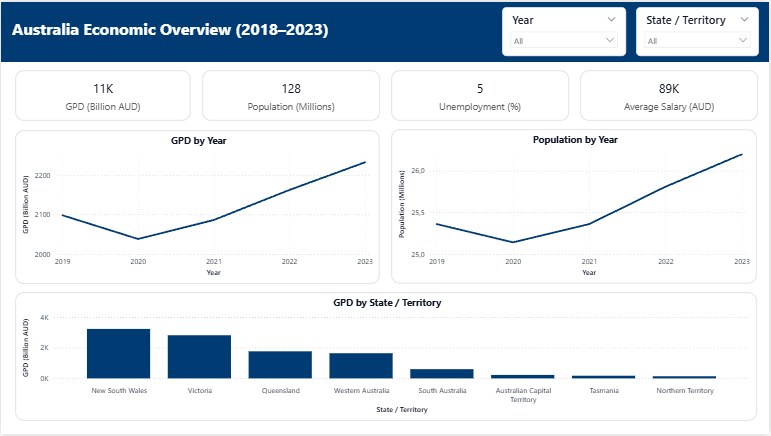

The page's visual inventory and layout, read from the dashboard file:
{"tool":"powerbi","page":{"name":"Overview","canvas":[1280,720],"ordinal":0},"visuals":[{"type":"card","fields":{"Values":["Main Sheet.Population (Millions)"]},"box":[335,113.3,296.7,85],"z":0},{"type":"card","fields":{"Values":["Main Sheet.GPD (Billion AUD)"]},"box":[23.3,113.3,293.3,85],"z":1000},{"type":"card","fields":{"Values":["Main Sheet.Unemployment (%)"]},"box":[650,113.3,296.7,85],"z":2000},{"type":"card","fields":{"Values":["Main Sheet.Average Salary (AUD)"]},"box":[965,113.3,296.7,85],"z":3000},{"type":"lineChart","title":"GPD by Year","fields":{"Y":["Main Sheet.GPD (Billion AUD)"],"Category":["Aux Year.Year"]},"box":[23.3,213.3,608.3,256.7],"z":4000},{"type":"lineChart","title":"Population by Year","fields":{"Y":["Main Sheet.Population (Millions)"],"Category":["Aux Year.Year"]},"box":[650,211.7,610,258.3],"z":5000},{"type":"clusteredColumnChart","title":"GPD by State / Territory","fields":{"Category":["Main Sheet.State_Territory"],"Y":["Main Sheet.GPD (Billion AUD)"]},"box":[23.3,483.3,1236.7,215],"z":6000},{"type":"shape","title":"Australia Economic Overview","box":[0,0,1280,100],"z":7000},{"type":"textbox","box":[13.3,21.7,571.7,55],"z":8000},{"type":"slicer","fields":{"Values":["Main Sheet.Year"]},"box":[835,8.3,206.7,81.7],"z":10000},{"type":"slicer","fields":{"Values":["Main Sheet.State_Territory"]},"box":[1058.3,8.3,205,81.7],"z":11000}]}

Visuals, with their boxes in screenshot pixels (x1, y1, x2, y2), scaled from the page's 1280x720 canvas onto the 771x436 screenshot:
card - Main Sheet.Population (Millions): (left=202, top=69, right=381, bottom=120)
card - Main Sheet.GPD (Billion AUD): (left=14, top=69, right=191, bottom=120)
card - Main Sheet.Unemployment (%): (left=392, top=69, right=570, bottom=120)
card - Main Sheet.Average Salary (AUD): (left=581, top=69, right=760, bottom=120)
"GPD by Year" lineChart: (left=14, top=129, right=380, bottom=285)
"Population by Year" lineChart: (left=392, top=128, right=759, bottom=285)
"GPD by State / Territory" clusteredColumnChart: (left=14, top=293, right=759, bottom=423)
"Australia Economic Overview" shape: (left=0, top=0, right=770, bottom=61)
textbox: (left=8, top=13, right=352, bottom=46)
slicer - Main Sheet.Year: (left=503, top=5, right=627, bottom=54)
slicer - Main Sheet.State_Territory: (left=637, top=5, right=761, bottom=54)
